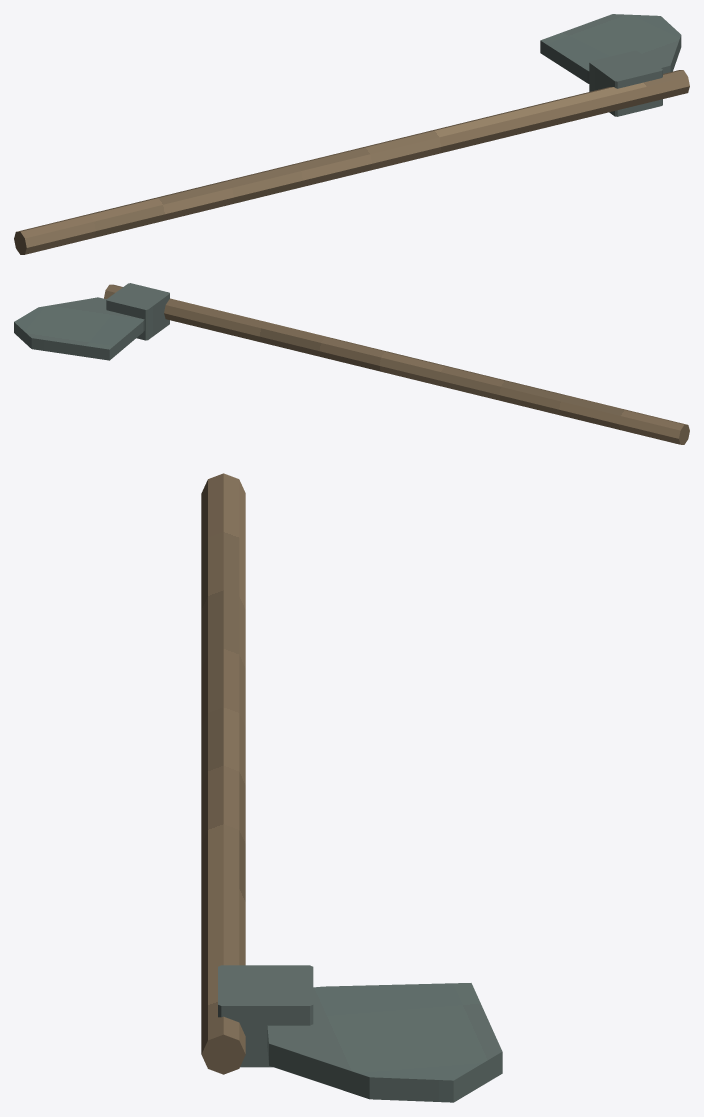
The model's file is weapon-battle-axe.glb.
3 views of the same model, one above another, from view 1: azimuth 30°, elevation 25°; view 2: azimuth 150°, elevation 25°; view 3: azimuth 270°, elevation 25° (orthographic). The views are drawn at different scales.
Visible parts, largest first — view 1: weapon-battle-axe/eight-sided-long-shaft, weapon-battle-axe/wide-bearded-axe-head, weapon-battle-axe/full-depth-axe-eye; view 2: weapon-battle-axe/eight-sided-long-shaft, weapon-battle-axe/wide-bearded-axe-head, weapon-battle-axe/full-depth-axe-eye; view 3: weapon-battle-axe/eight-sided-long-shaft, weapon-battle-axe/wide-bearded-axe-head, weapon-battle-axe/full-depth-axe-eye.
Part boxes in pixels (x1,y1,x2,y2): weapon-battle-axe/eight-sided-long-shaft: (14,70,689,254); weapon-battle-axe/wide-bearded-axe-head: (540,14,681,83); weapon-battle-axe/full-depth-axe-eye: (589,50,662,116); weapon-battle-axe/eight-sided-long-shaft: (104,284,689,444); weapon-battle-axe/wide-bearded-axe-head: (14,297,144,360); weapon-battle-axe/full-depth-axe-eye: (106,283,169,340); weapon-battle-axe/eight-sided-long-shaft: (201,473,245,1074); weapon-battle-axe/wide-bearded-axe-head: (267,983,502,1102); weapon-battle-axe/full-depth-axe-eye: (218,965,313,1067).
Size of the model in its own units: 1.28 by 0.061 by 0.272.
2 materials, 2 textured.
